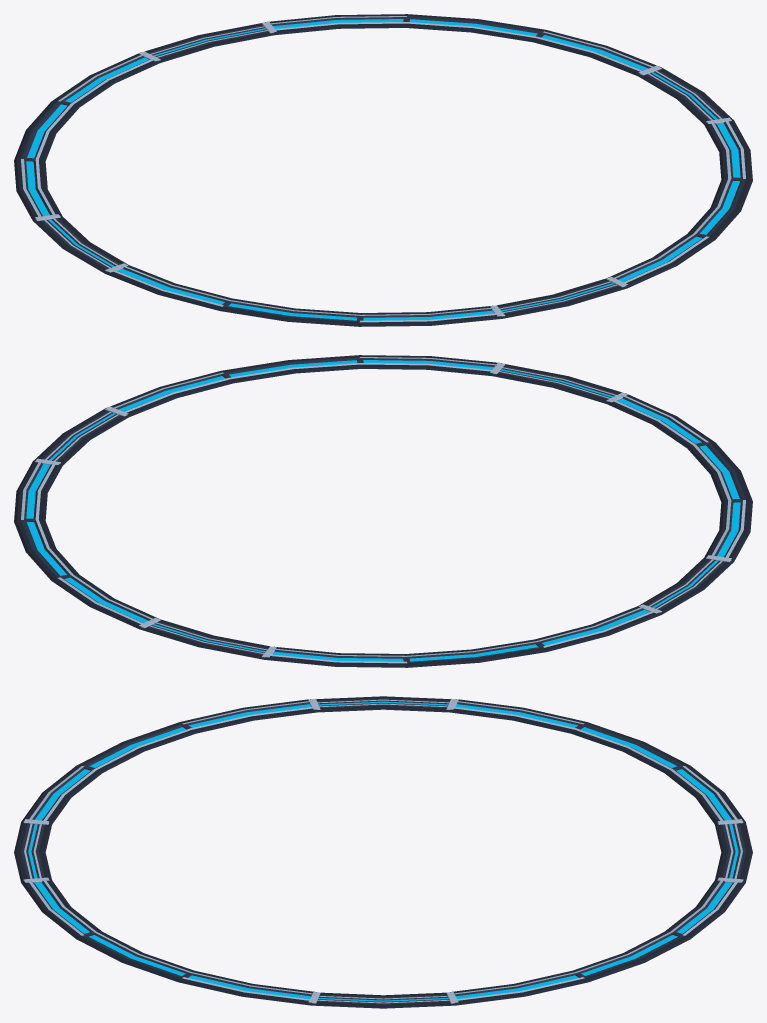
File: SM_Hub_QueuePadRing_01.obj
3 views of the same model, one above another, from view 1: azimuth 30°, elevation 25°; view 2: azimuth 150°, elevation 25°; view 3: azimuth 270°, elevation 25° (orthographic).
Visible parts, largest first — view 1: GEO_QueuePadRing_BaseCollar, GEO_QueuePadRing_ChannelInlay, GEO_QueuePadRing_TrimBezels, GEO_QueuePadRing_CyanConduit; view 2: GEO_QueuePadRing_BaseCollar, GEO_QueuePadRing_ChannelInlay, GEO_QueuePadRing_TrimBezels, GEO_QueuePadRing_CyanConduit; view 3: GEO_QueuePadRing_BaseCollar, GEO_QueuePadRing_ChannelInlay, GEO_QueuePadRing_TrimBezels, GEO_QueuePadRing_CyanConduit.
Part boxes in pixels (x1,y1,x2,y2): GEO_QueuePadRing_BaseCollar: (14,14,752,326); GEO_QueuePadRing_ChannelInlay: (21,15,745,322); GEO_QueuePadRing_TrimBezels: (21,16,745,322); GEO_QueuePadRing_CyanConduit: (26,19,740,320); GEO_QueuePadRing_BaseCollar: (14,355,752,667); GEO_QueuePadRing_ChannelInlay: (21,356,745,663); GEO_QueuePadRing_TrimBezels: (21,357,745,663); GEO_QueuePadRing_CyanConduit: (26,360,740,661); GEO_QueuePadRing_BaseCollar: (14,696,752,1008); GEO_QueuePadRing_ChannelInlay: (21,698,745,1004); GEO_QueuePadRing_TrimBezels: (23,698,743,1003); GEO_QueuePadRing_CyanConduit: (28,701,738,1001).
Bounding box in the file's own units: 28 × 0.076 × 28.
4 materials, 4 textured.
